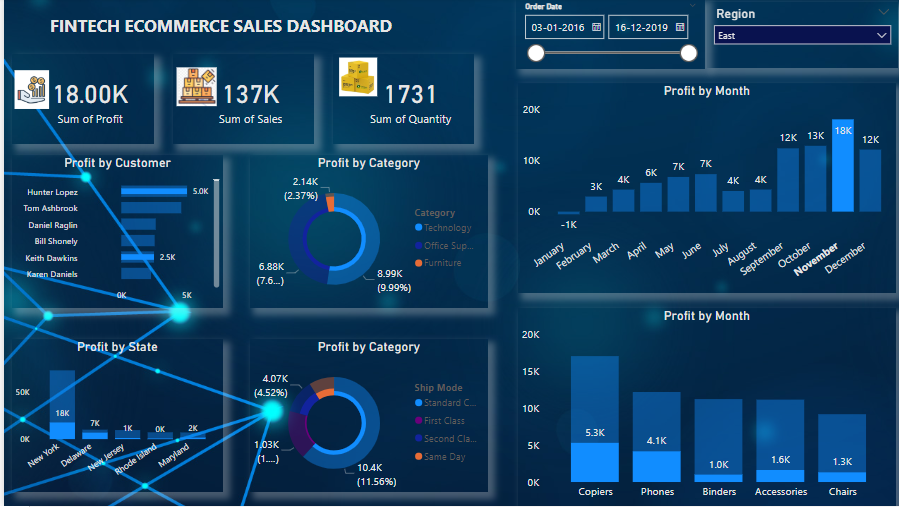

Layout of this report page (visuals, bound fields, positions):
{"tool":"powerbi","page":{"name":"Page 1","canvas":[1280,720],"ordinal":0},"visuals":[{"type":"textbox","box":[39.7,17,535.7,49.6],"z":0},{"type":"columnChart","title":" Profit by Month","fields":{"Category":["Orders.Order Date.Variation.Date Hierarchy.Year","Orders.Order Date.Variation.Date Hierarchy.Quarter","Orders.Order Date.Variation.Date Hierarchy.Month","Orders.Order Date.Variation.Date Hierarchy.Day"],"Y":["Sum(Orders.Profit)"]},"box":[728.5,120.5,535.7,297.6],"z":1000},{"type":"columnChart","title":" Profit by Month","fields":{"Y":["Sum(Orders.Profit)"],"Category":["Orders.Sub-Category"]},"box":[728.5,439.4,535.7,280.6],"z":2000},{"type":"card","fields":{"Values":["Sum(Orders.Profit)"]},"box":[11.6,80,201.3,127.7],"z":3000},{"type":"card","fields":{"Values":["Sum(Orders.Sales)"]},"box":[240,80,200,127.7],"z":4000},{"type":"card","fields":{"Values":["Sum(Orders.Quantity)"]},"box":[465.8,80,200,127.7],"z":5000},{"type":"slicer","fields":{"Values":["Orders.Order Date"]},"box":[725.5,0,268,99.8],"z":6000},{"type":"slicer","fields":{"Values":["Orders.Region"]},"box":[996.3,5.7,270.8,94.1],"z":7000},{"type":"donutChart","title":"Profit by Category","fields":{"Y":["Sum(Orders.Profit)"],"Category":["Orders.Category"]},"box":[348.7,222.5,337.3,216.9],"z":8000},{"type":"donutChart","title":"Profit by Category","fields":{"Y":["Sum(Orders.Profit)"],"Category":["Orders.Ship Mode"]},"box":[348.7,483.3,337.3,216.9],"z":9000},{"type":"clusteredBarChart","title":" Profit by Customer","fields":{"Y":["Sum(Orders.Profit)"],"Category":["Orders.Customer Name"]},"box":[11.3,222.5,299.1,216.9],"z":10000},{"type":"columnChart","title":"Profit by State","fields":{"Y":["Sum(Orders.Profit)"],"Category":["Orders.State"]},"box":[11.3,483.3,299.1,216.9],"z":11000},{"type":"image","box":[10.3,89,59.4,81.3],"z":12000},{"type":"image","box":[240,89,67.1,72.3],"z":13000},{"type":"image","box":[455.5,80,92.9,64.5],"z":14000}]}

Visuals, with their boxes in screenshot pixels (x1, y1, x2, y2), scaled from the page's 1280x720 canvas onto the 899x507 screenshot:
textbox: 28,12,404,47
" Profit by Month" columnChart: 512,85,888,294
" Profit by Month" columnChart: 512,309,888,506
card - Sum(Orders.Profit): 8,56,150,146
card - Sum(Orders.Sales): 169,56,309,146
card - Sum(Orders.Quantity): 327,56,468,146
slicer - Orders.Order Date: 510,0,698,70
slicer - Orders.Region: 700,4,890,70
"Profit by Category" donutChart: 245,157,482,309
"Profit by Category" donutChart: 245,340,482,493
" Profit by Customer" clusteredBarChart: 8,157,218,309
"Profit by State" columnChart: 8,340,218,493
image: 7,63,49,120
image: 169,63,216,114
image: 320,56,385,102
